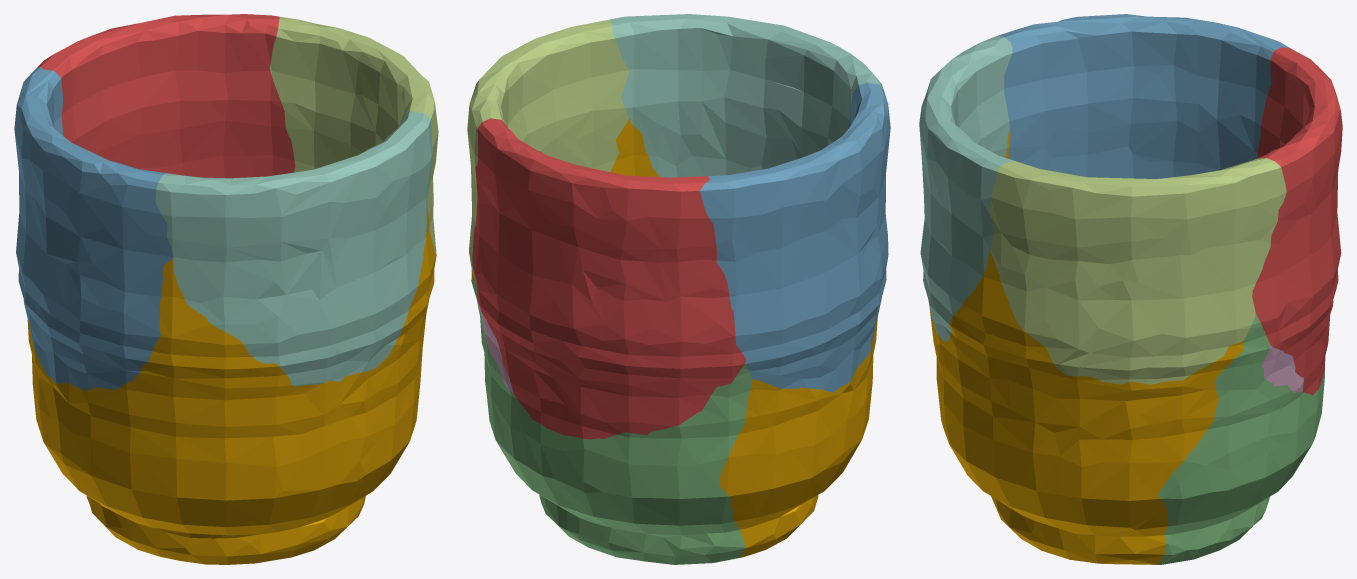
Rendered from mode_7_8pcs.glb.
3 views of the same model, side by side, from view 1: azimuth 30°, elevation 25°; view 2: azimuth 150°, elevation 25°; view 3: azimuth 270°, elevation 25° (orthographic).
Visible parts, largest first — view 1: piece_0.obj, piece_4.obj, piece_2.obj, piece_1.obj, piece_5.obj; view 2: piece_1.obj, piece_2.obj, piece_4.obj, piece_3.obj, piece_0.obj, piece_5.obj, piece_6.obj; view 3: piece_5.obj, piece_0.obj, piece_2.obj, piece_1.obj, piece_3.obj, piece_4.obj, piece_6.obj.
Boxes of the visible parts, x1=… form: piece_0.obj: x1=27, y1=207, x2=436, y2=564; piece_4.obj: x1=155, y1=111, x2=432, y2=386; piece_2.obj: x1=14, y1=66, x2=173, y2=390; piece_1.obj: x1=37, y1=14, x2=295, y2=178; piece_5.obj: x1=269, y1=16, x2=438, y2=254; piece_1.obj: x1=472, y1=118, x2=746, y2=439; piece_2.obj: x1=700, y1=82, x2=890, y2=392; piece_4.obj: x1=610, y1=14, x2=883, y2=177; piece_3.obj: x1=471, y1=254, x2=752, y2=564; piece_0.obj: x1=471, y1=118, x2=878, y2=557; piece_5.obj: x1=467, y1=19, x2=629, y2=269; piece_6.obj: x1=477, y1=299, x2=513, y2=393; piece_5.obj: x1=988, y1=158, x2=1286, y2=384; piece_0.obj: x1=929, y1=129, x2=1244, y2=564; piece_2.obj: x1=998, y1=14, x2=1296, y2=178; piece_1.obj: x1=1252, y1=47, x2=1342, y2=395; piece_3.obj: x1=1157, y1=313, x2=1324, y2=564; piece_4.obj: x1=919, y1=35, x2=1014, y2=341; piece_6.obj: x1=1261, y1=346, x2=1303, y2=393.
Size of the model in its own units: 0.9237 by 1 by 0.923.
